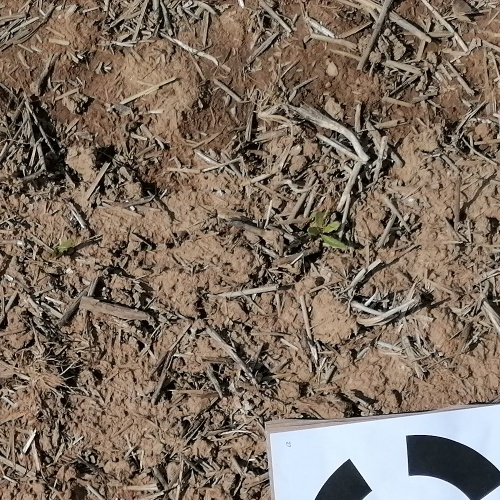beet: (308, 214, 349, 250), (32, 236, 77, 255)
